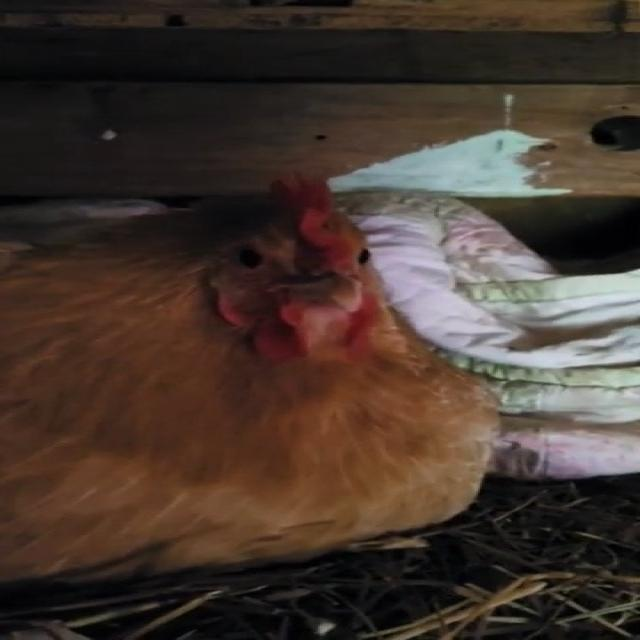menacing: (0, 184, 480, 596)
